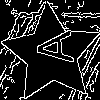A: (26, 28, 74, 67)
